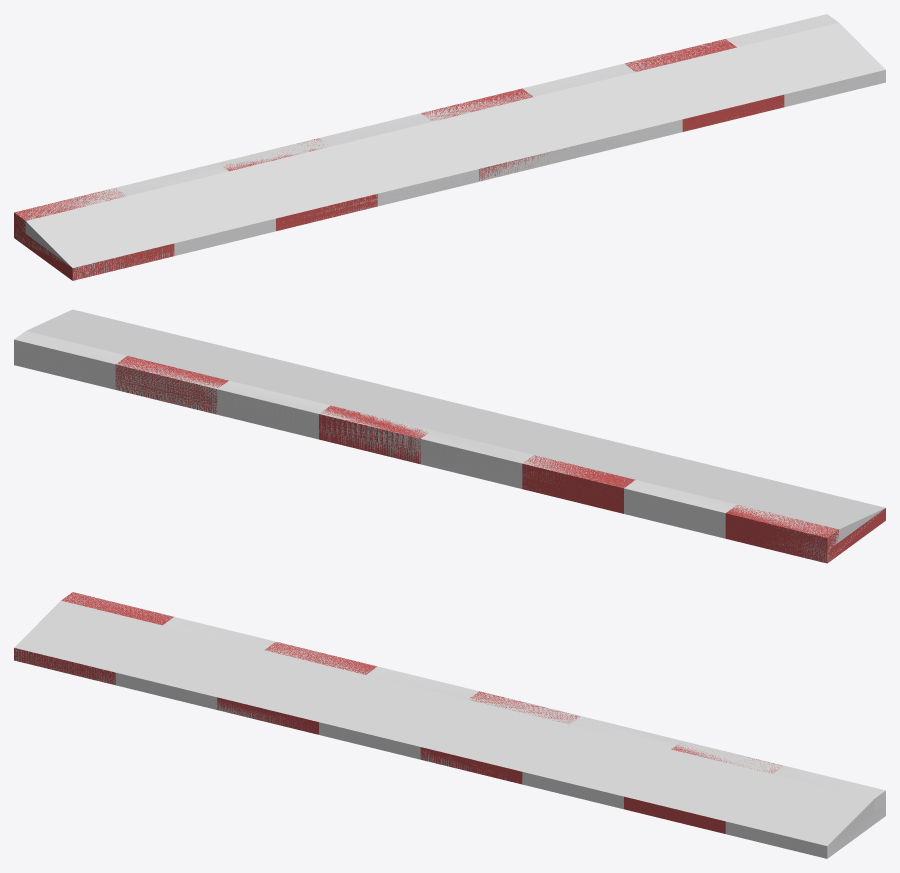
File: Kerb_Painted_4m.glb
The picture shows the model from 3 angles, top to bottom: view 1: azimuth 30°, elevation 25°; view 2: azimuth 150°, elevation 25°; view 3: azimuth 330°, elevation 25°; orthographic projection.
Parts seen in each view (by area): view 1: Kerb_Painted_4m_COL, Kerb_Painted_4m_LOD0; view 2: Kerb_Painted_4m_COL, Kerb_Painted_4m_LOD0; view 3: Kerb_Painted_4m_COL, Kerb_Painted_4m_LOD0.
Boxes of the visible parts, x1,y1,x2,y2 form: Kerb_Painted_4m_COL: (14, 14, 885, 279); Kerb_Painted_4m_LOD0: (14, 14, 885, 280); Kerb_Painted_4m_COL: (14, 309, 885, 563); Kerb_Painted_4m_LOD0: (14, 331, 885, 563); Kerb_Painted_4m_COL: (14, 592, 885, 857); Kerb_Painted_4m_LOD0: (14, 592, 885, 858).
Size of what is drawn, in the model's own units: 4 by 0.12 by 0.5.
